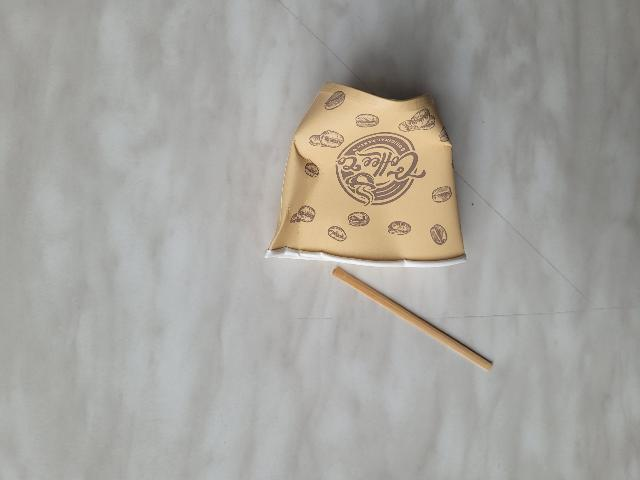Kagit: (262, 83, 470, 270), (333, 265, 496, 373)
